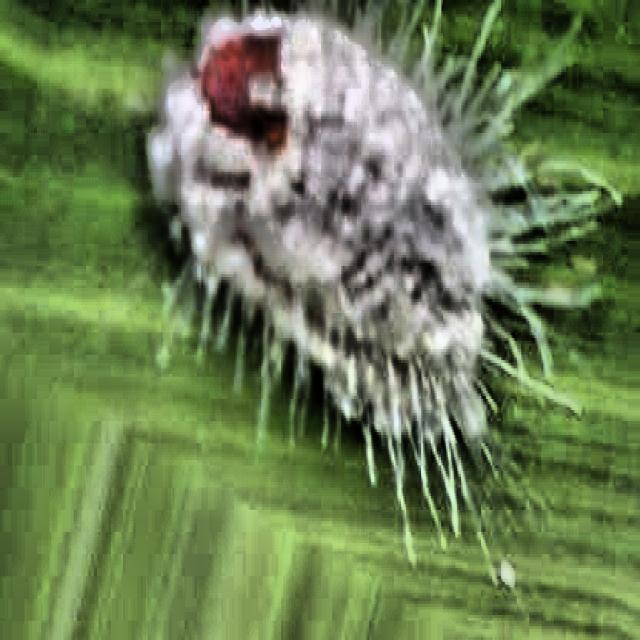Mealy-bug: (100, 2, 578, 564)
